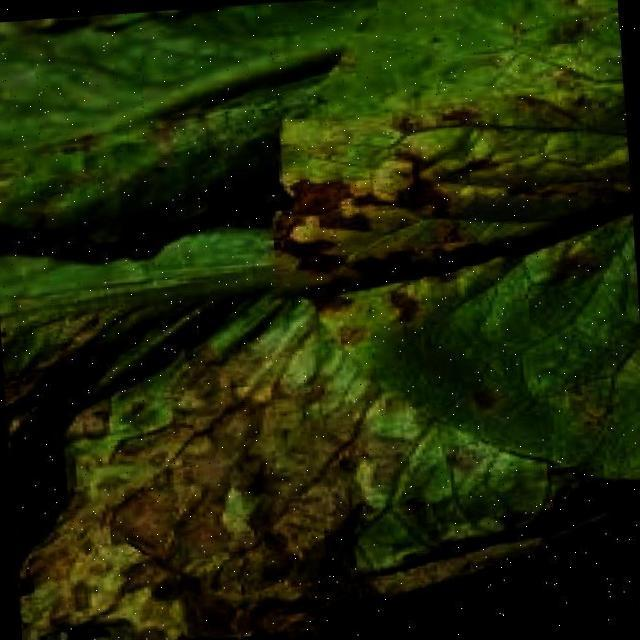Septoria_Blight: (266, 24, 640, 436), (45, 439, 412, 619)
